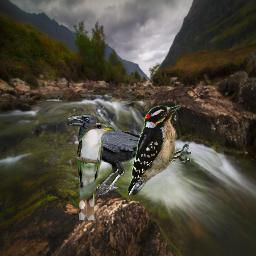Crow: (67, 114, 176, 195)
Cuckoo: (76, 122, 115, 220)
Woodpecker: (127, 105, 191, 195)
